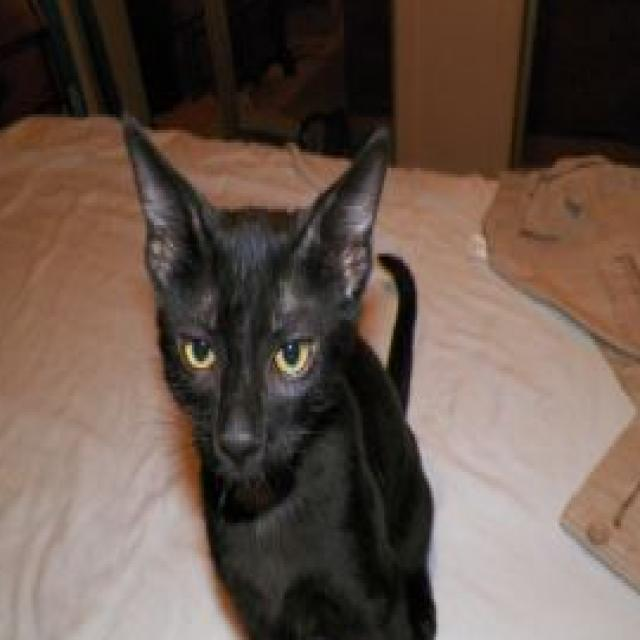Bombay: (116, 111, 441, 640)
